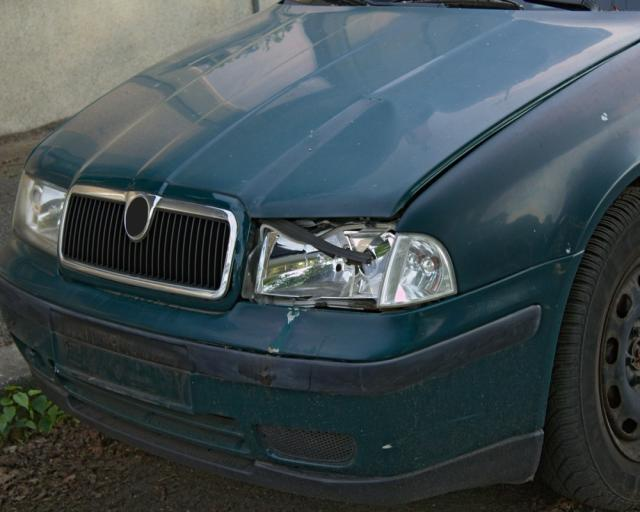lamp broken: (241, 219, 459, 313)
